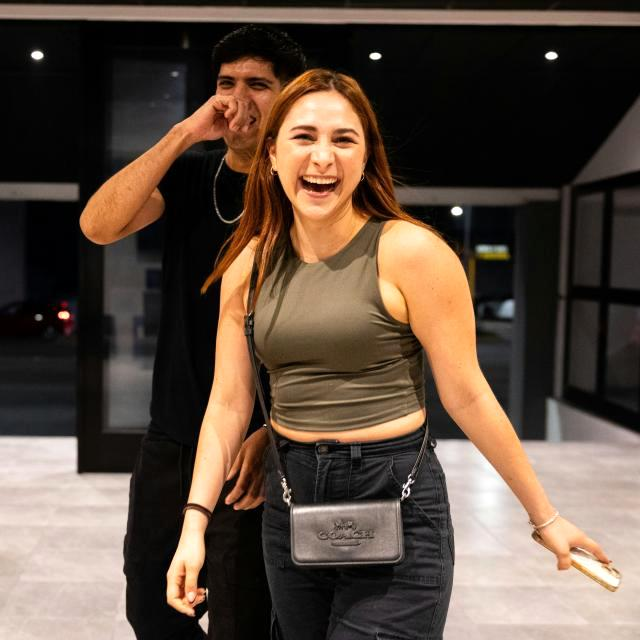no_head_wear: (269, 68, 377, 136), (212, 24, 305, 66)
person: (226, 69, 478, 640), (81, 25, 305, 640)
